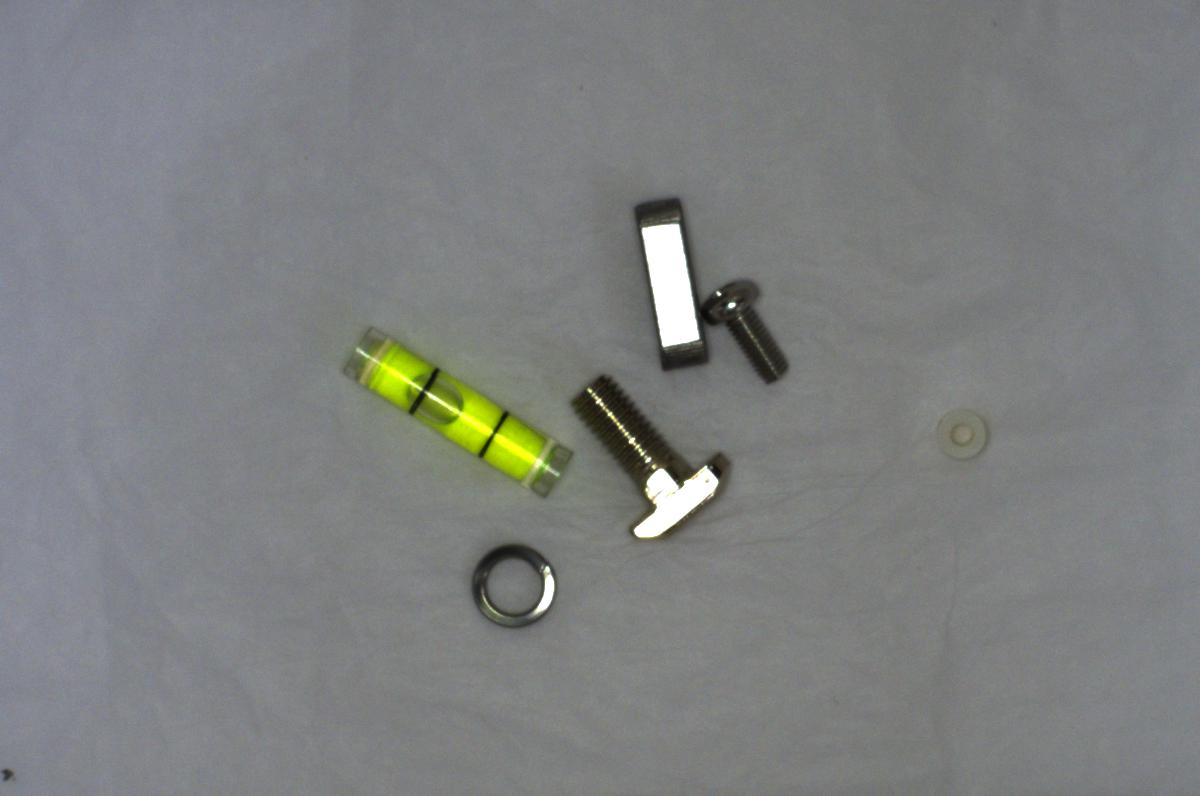Horizontal bubble: (329, 315, 571, 496)
Keybar: (630, 190, 708, 372)
Plastic cushion pillar: (933, 405, 996, 472)
Round head screw: (702, 271, 796, 392)
Spring washer: (451, 537, 576, 630)
T-shaped screw: (561, 364, 734, 546)
